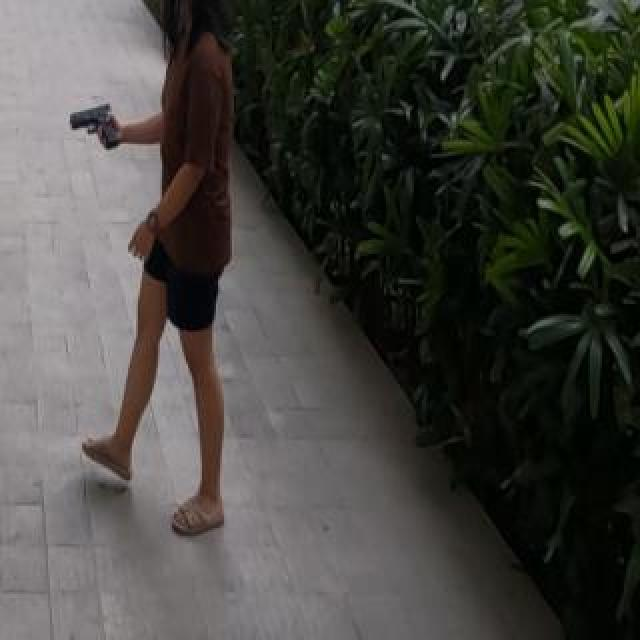Guns: (66, 95, 132, 162)
